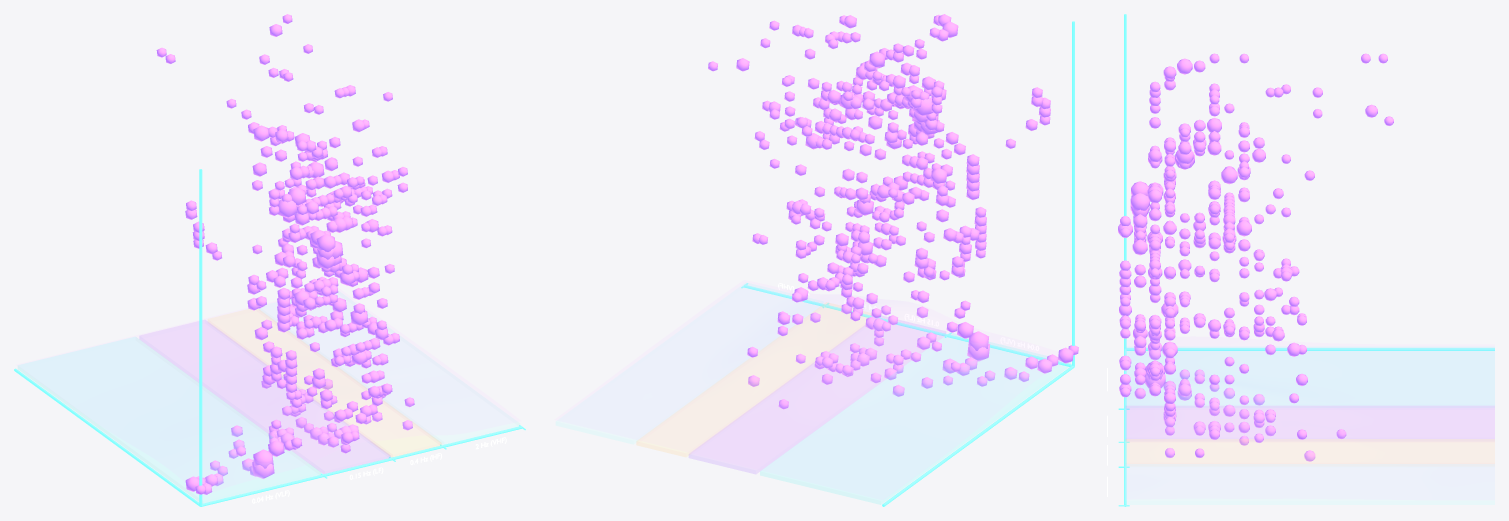
Rendered from cube_hrv_sessionA.glb.
The picture shows the model from 3 angles, left to right: view 1: azimuth 30°, elevation 25°; view 2: azimuth 150°, elevation 25°; view 3: azimuth 270°, elevation 25°; orthographic projection. The views are drawn at different scales.
Parts seen in each view (by area): view 1: hrv_sessionA_BandLandscape, hrv_sessionA_EnergyLobes, hrv_sessionA_BandSlab_VLF, hrv_sessionA_BandSlab_LF, hrv_sessionA_BandSlab_HF, hrv_sessionA_Axis_t, hrv_sessionA_Axis_fc, hrv_sessionA_Axis_fam; view 2: hrv_sessionA_BandLandscape, hrv_sessionA_EnergyLobes, hrv_sessionA_BandSlab_VLF, hrv_sessionA_BandSlab_LF, hrv_sessionA_BandSlab_HF, hrv_sessionA_Axis_t, hrv_sessionA_Axis_fc, hrv_sessionA_Axis_fam; view 3: hrv_sessionA_BandLandscape, hrv_sessionA_EnergyLobes, hrv_sessionA_BandSlab_VLF, hrv_sessionA_BandSlab_LF, hrv_sessionA_BandSlab_HF, hrv_sessionA_BandSlab_VHF, hrv_sessionA_Axis_fam, hrv_sessionA_Axis_t.
Part boxes in pixels (box(x1,y1,x2,y2)): hrv_sessionA_BandLandscape: box(17, 288, 519, 494); hrv_sessionA_EnergyLobes: box(156, 14, 414, 494); hrv_sessionA_BandSlab_VLF: box(18, 337, 320, 502); hrv_sessionA_BandSlab_LF: box(140, 320, 389, 473); hrv_sessionA_BandSlab_HF: box(208, 309, 440, 456); hrv_sessionA_Axis_t: box(199, 169, 202, 506); hrv_sessionA_Axis_fc: box(200, 426, 522, 506); hrv_sessionA_Axis_fam: box(14, 368, 200, 506); hrv_sessionA_BandLandscape: box(555, 280, 1062, 499); hrv_sessionA_EnergyLobes: box(708, 14, 1078, 409); hrv_sessionA_BandSlab_VLF: box(760, 333, 1070, 504); hrv_sessionA_BandSlab_LF: box(689, 316, 945, 473); hrv_sessionA_BandSlab_HF: box(637, 303, 870, 456); hrv_sessionA_Axis_t: box(1072, 21, 1074, 366); hrv_sessionA_Axis_fc: box(743, 284, 1071, 366); hrv_sessionA_Axis_fam: box(882, 365, 1074, 506); hrv_sessionA_BandLandscape: box(1126, 337, 1494, 499); hrv_sessionA_EnergyLobes: box(1118, 53, 1393, 461); hrv_sessionA_BandSlab_VLF: box(1126, 347, 1494, 404); hrv_sessionA_BandSlab_LF: box(1126, 406, 1494, 438); hrv_sessionA_BandSlab_HF: box(1126, 439, 1494, 463); hrv_sessionA_BandSlab_VHF: box(1127, 498, 1494, 504); hrv_sessionA_Axis_fam: box(1126, 348, 1494, 350); hrv_sessionA_Axis_t: box(1124, 14, 1126, 348).
Bounding box in the file's own units: 10.23 × 10.43 × 10.49.
